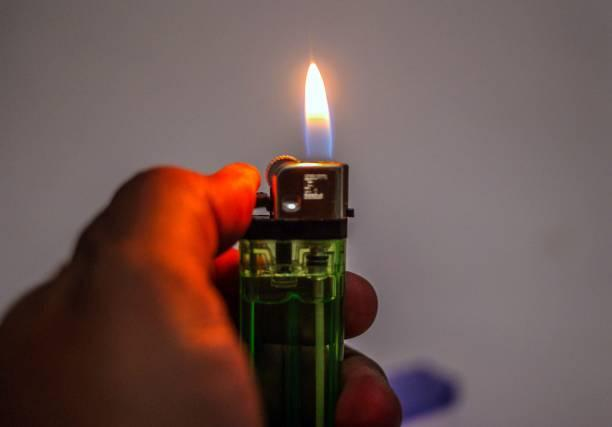Fire: (293, 56, 340, 163)
